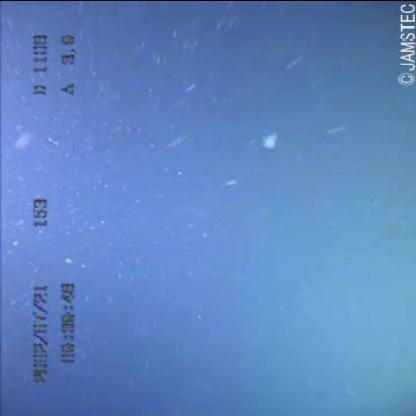Rác: (240, 112, 288, 166)
